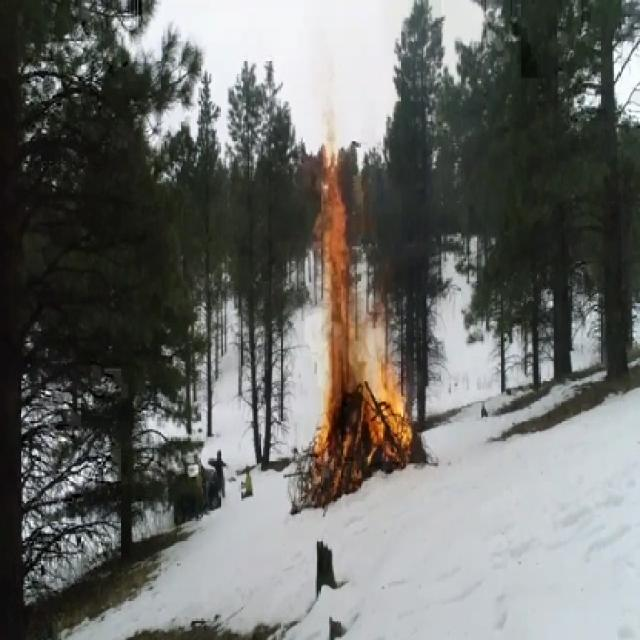Fire: (288, 89, 420, 508)
